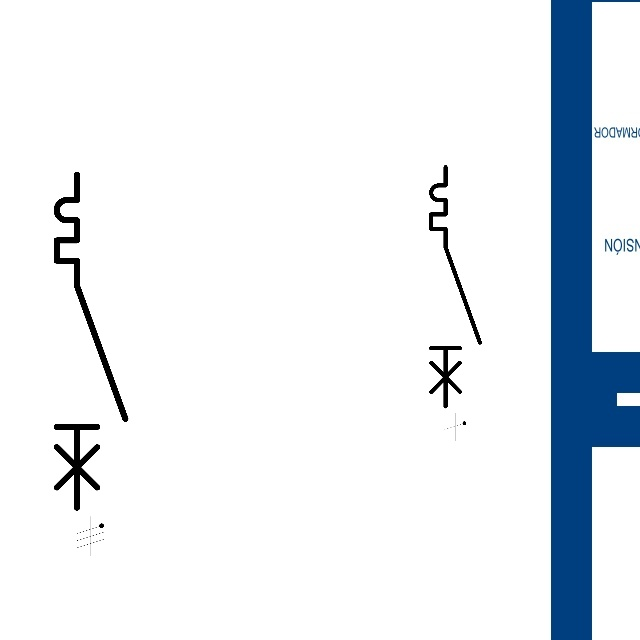interruptor_termomagnetico: (48, 166, 134, 516), (425, 161, 486, 412)
